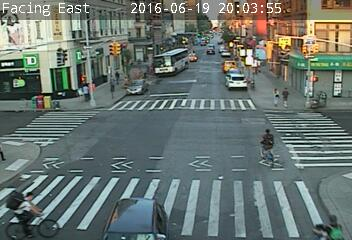neg: (7, 184, 46, 237), (249, 125, 279, 165), (148, 142, 173, 176), (126, 190, 138, 207)
pos: (268, 85, 285, 107), (103, 77, 118, 97), (278, 86, 292, 105), (112, 67, 122, 80)
